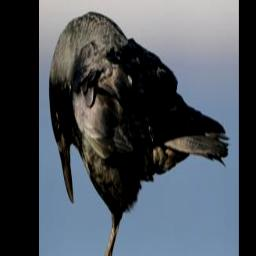Crow: (48, 9, 230, 256)
